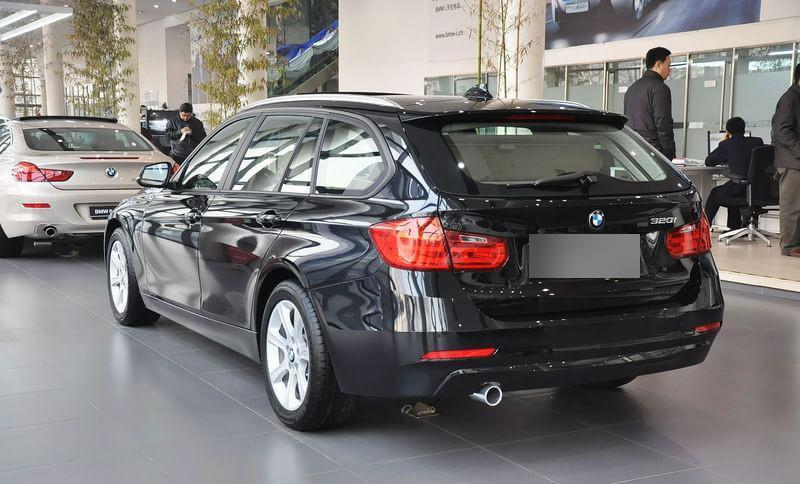Wagon: (102, 80, 726, 433)
